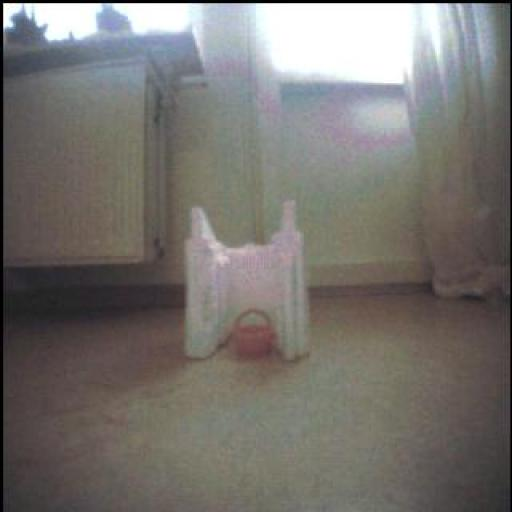Basket: (233, 310, 276, 359)
